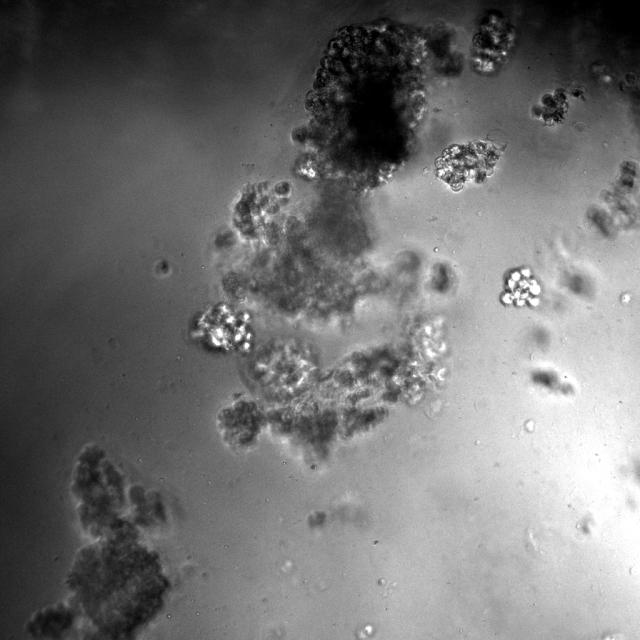organoid: (185, 18, 466, 473), (28, 443, 169, 639), (435, 130, 507, 191), (588, 160, 639, 237), (471, 10, 515, 74), (531, 84, 585, 125), (500, 267, 541, 307), (531, 368, 575, 395), (153, 259, 172, 278), (308, 510, 326, 528), (624, 72, 636, 84)
